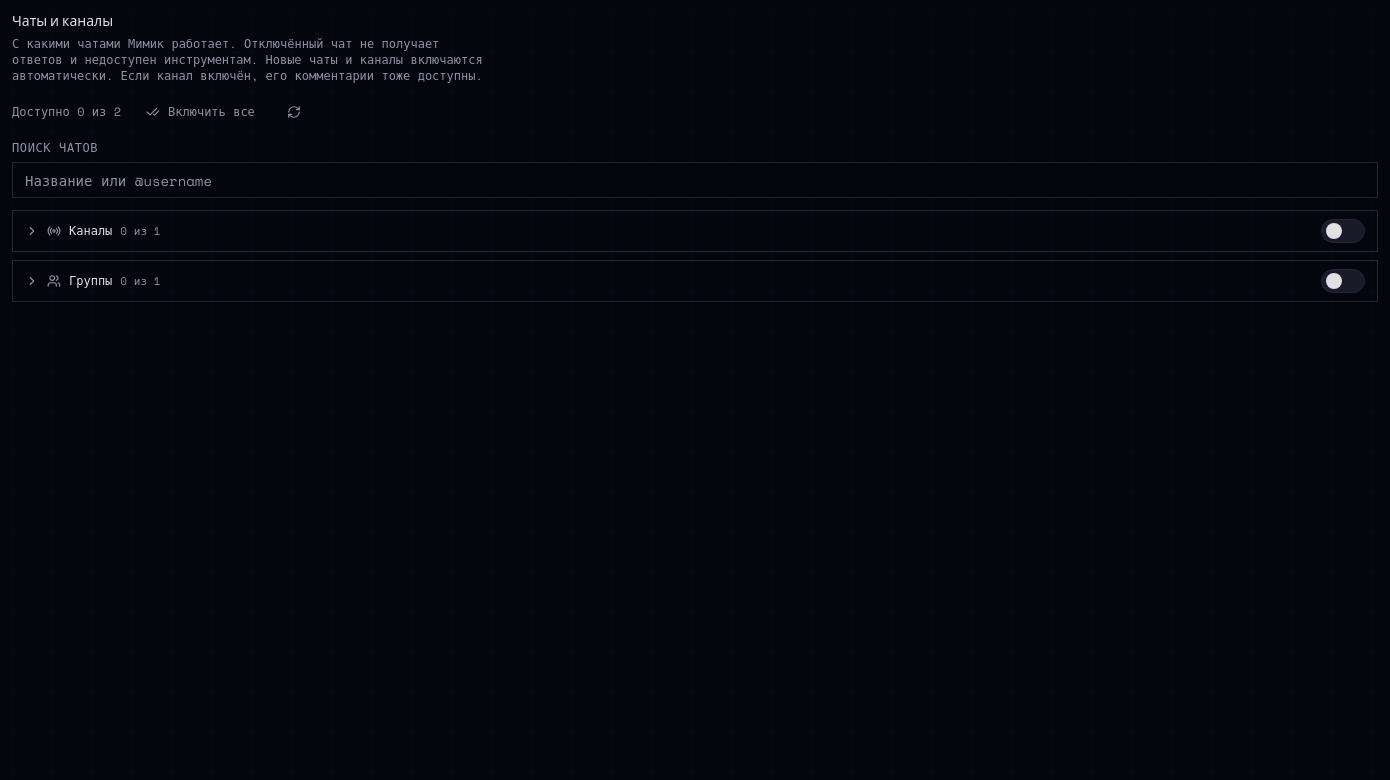
Scenario: ChatsSettings › при отключённом канале группа обсуждения переключается сама
The image size is (1390, 780).
Click the button with test id "chat-group-group" at point(91, 280), box top-left (25, 273), bottom-right (1309, 289)
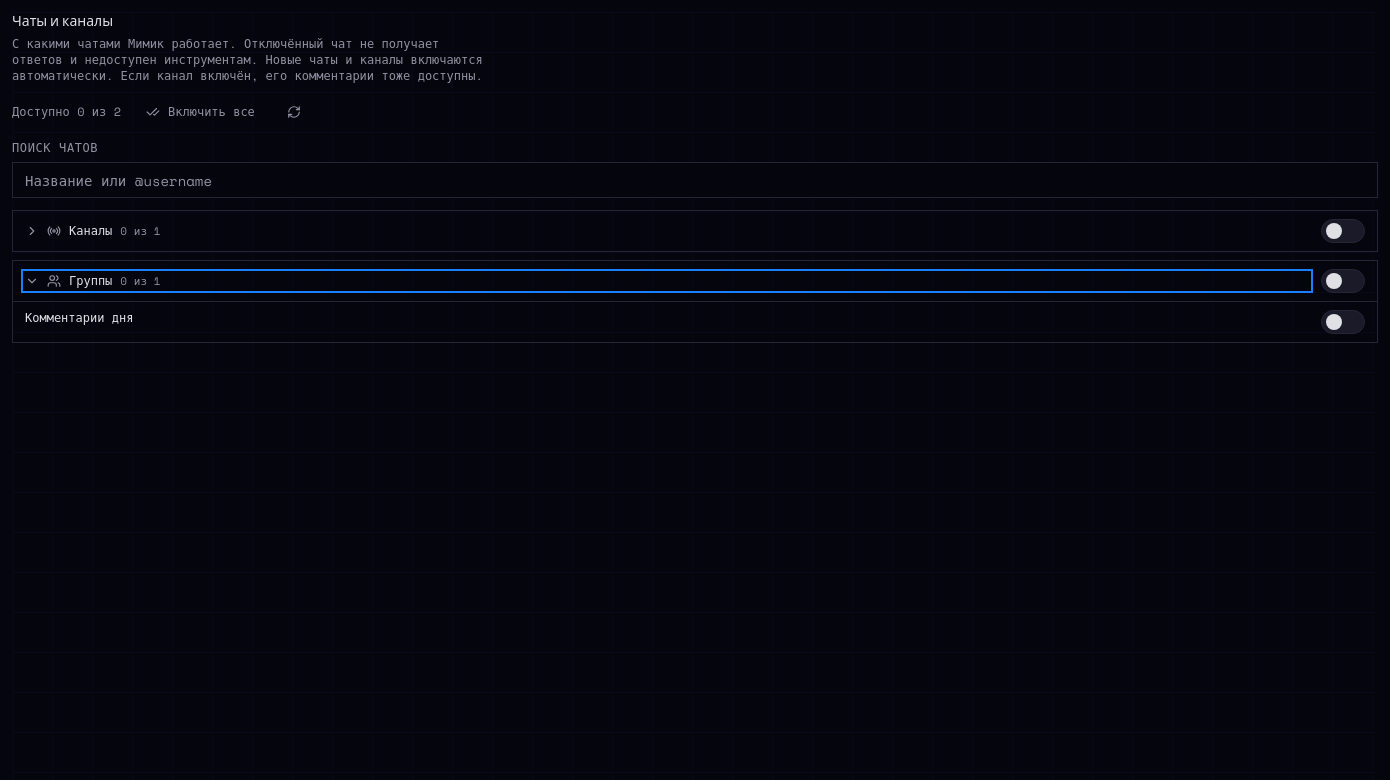
Now the switch named "Комментарии дня" is enabled, box top-left (1321, 310), bottom-right (1365, 334)
